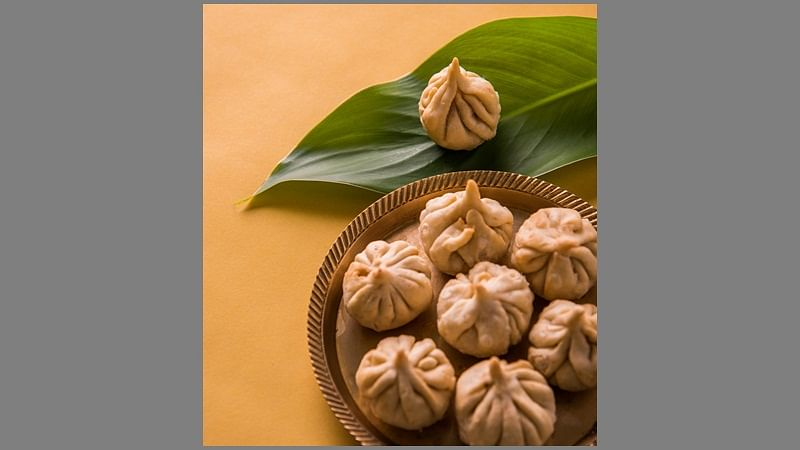modak: (446, 353, 568, 444), (518, 206, 614, 312), (410, 186, 519, 270), (453, 264, 542, 360), (366, 336, 457, 414), (358, 241, 436, 331), (427, 55, 496, 145), (539, 307, 614, 389)
